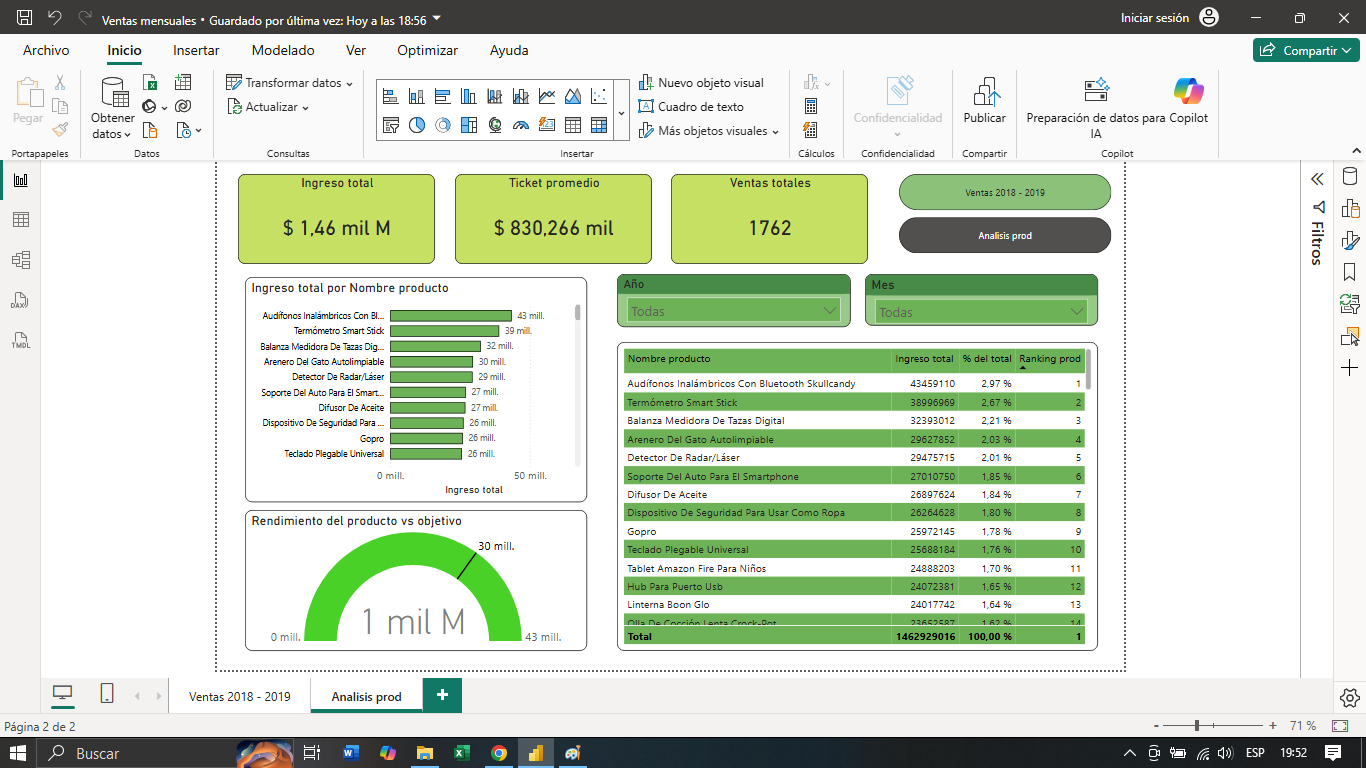

The dashboard page shown, as its layout file describes it:
{"tool":"powerbi","page":{"name":"Analisis prod","canvas":[1280,720],"ordinal":1},"visuals":[{"type":"clusteredBarChart","fields":{"Y":["Medidas.Ingreso total"],"Category":["Producto.Nombre producto"]},"box":[39.5,165.2,482.8,317.6],"z":0},{"type":"tableEx","fields":{"Values":["Producto.Nombre producto","Medidas.Ingreso total","Medidas.% del total","Medidas.Ranking prod"]},"box":[564.7,256.9,679.1,436.2],"z":1000},{"type":"card","title":"Ingreso total","fields":{"Values":["Medidas.Ingreso total"]},"box":[30,20,278.3,127],"z":2000},{"type":"card","title":"Ventas totales","fields":{"Values":["Medidas.Ventas totales"]},"box":[640.7,20,278.3,127],"z":3000},{"type":"card","title":"Ticket promedio","fields":{"Values":["Medidas.Ticket promedio"]},"box":[335.3,20,278.3,127],"z":4000},{"type":"gauge","title":"Rendimiento del producto vs objetivo","fields":{"Y":["Medidas.Ingreso total"],"MinValue":["Medidas.Minimo medidor"],"MaxValue":["Medidas.Maximo medidor"],"TargetValue":["Medidas.Objetivo medidor"]},"box":[39.5,494.1,482.8,199.1],"z":5000},{"type":"pageNavigator","box":[962.8,19.8,300.7,112.9],"z":6000},{"type":"slicer","title":"Año","fields":{"Values":["Calendario.Año"]},"box":[564.7,160.9,330.4,74.8],"z":6001},{"type":"slicer","title":"Mes","fields":{"Values":["Calendario.Nombre del mes"]},"box":[914.8,160.9,328.9,73.4],"z":6002}]}

Visuals, with their boxes on the page's 1280x720 design canvas (x1, y1, x2, y2). These are canvas units, not pixel positions in the 1366x768 screenshot, which may show the page scaled, cropped or inside an application window:
clusteredBarChart - Medidas.Ingreso total x Producto.Nombre producto: detection(40, 165, 522, 483)
tableEx - Producto.Nombre producto x Medidas.Ingreso total: detection(565, 257, 1244, 693)
"Ingreso total" card: detection(30, 20, 308, 147)
"Ventas totales" card: detection(641, 20, 919, 147)
"Ticket promedio" card: detection(335, 20, 614, 147)
"Rendimiento del producto vs objetivo" gauge: detection(40, 494, 522, 693)
pageNavigator: detection(963, 20, 1264, 133)
"Año" slicer: detection(565, 161, 895, 236)
"Mes" slicer: detection(915, 161, 1244, 234)
